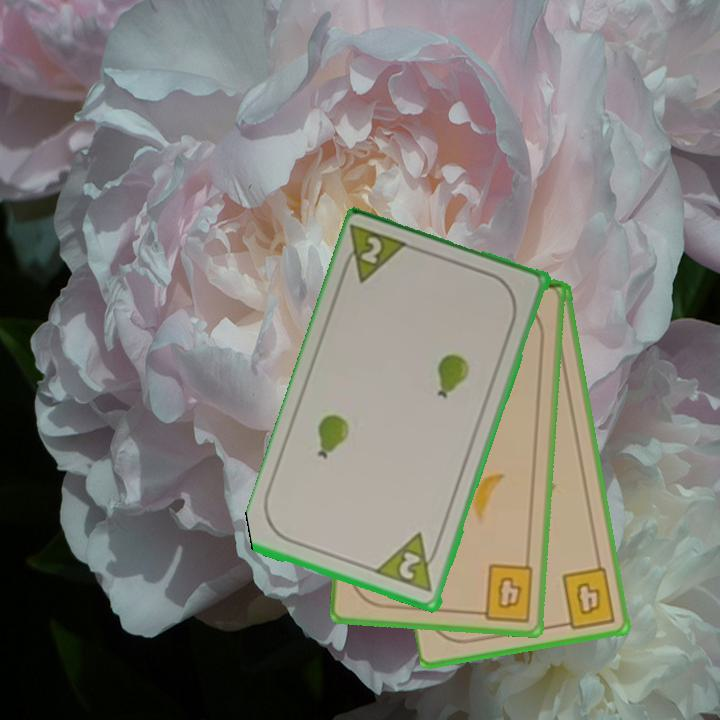2p: (336, 222, 414, 288), (374, 529, 445, 596)
4b: (556, 564, 619, 632), (471, 561, 536, 625)
